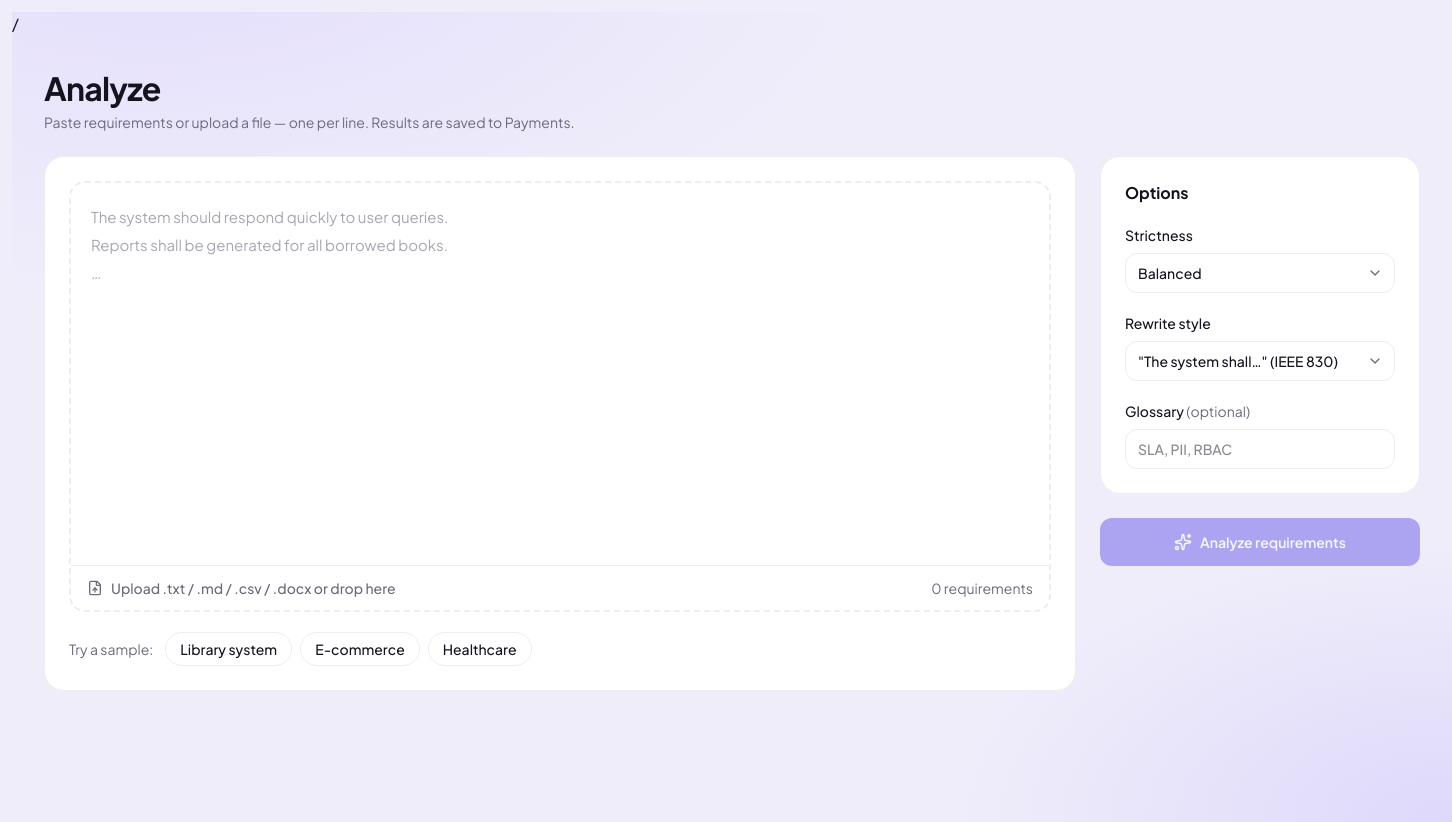
Analyze page › shows the server error message when analysis fails
Step 1. Click the button "E-commerce" → (360, 649), box [300, 632, 420, 666]
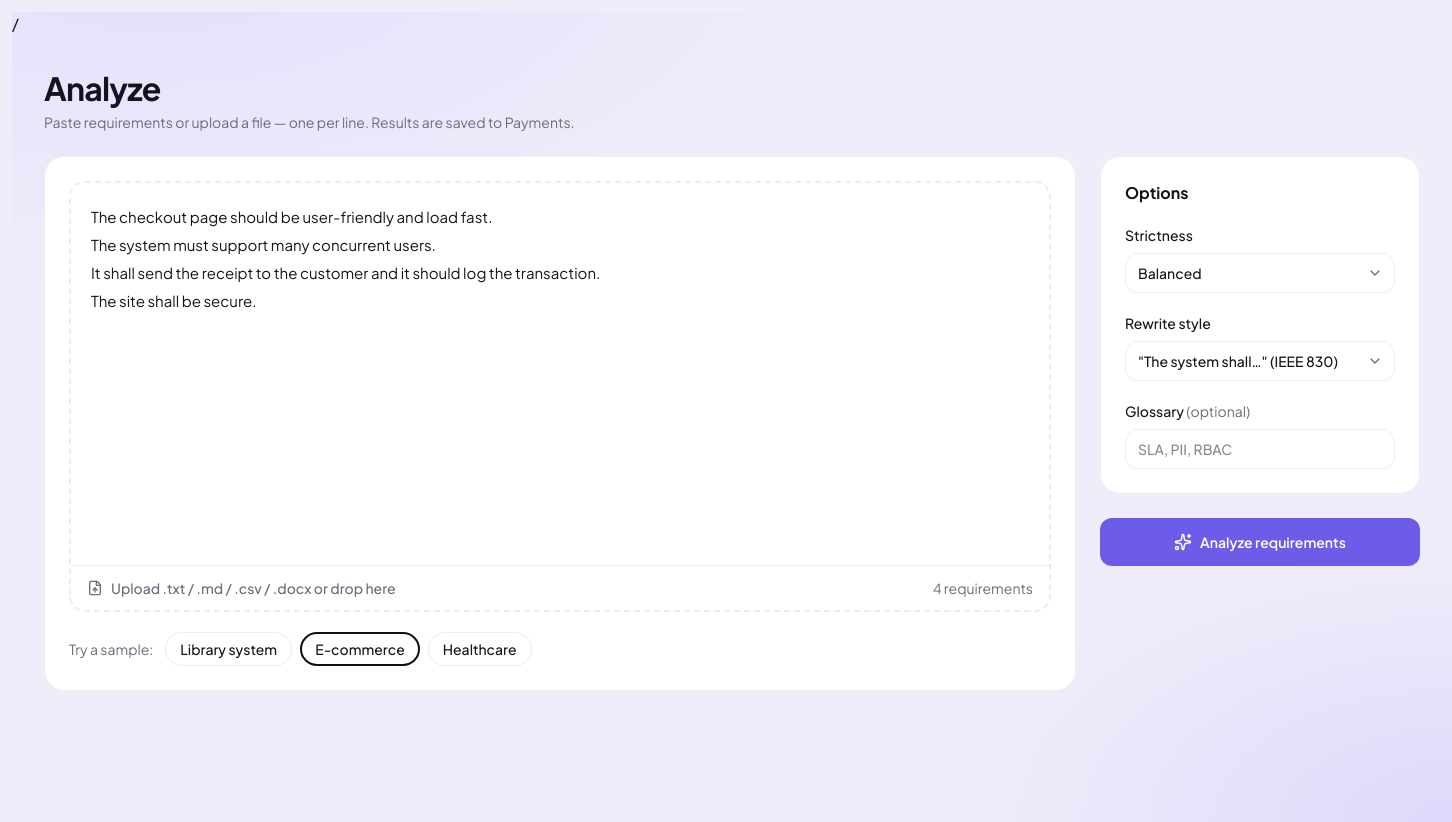
Step 2. Click the button "Analyze requirements" → (1260, 542), box [1100, 518, 1420, 566]
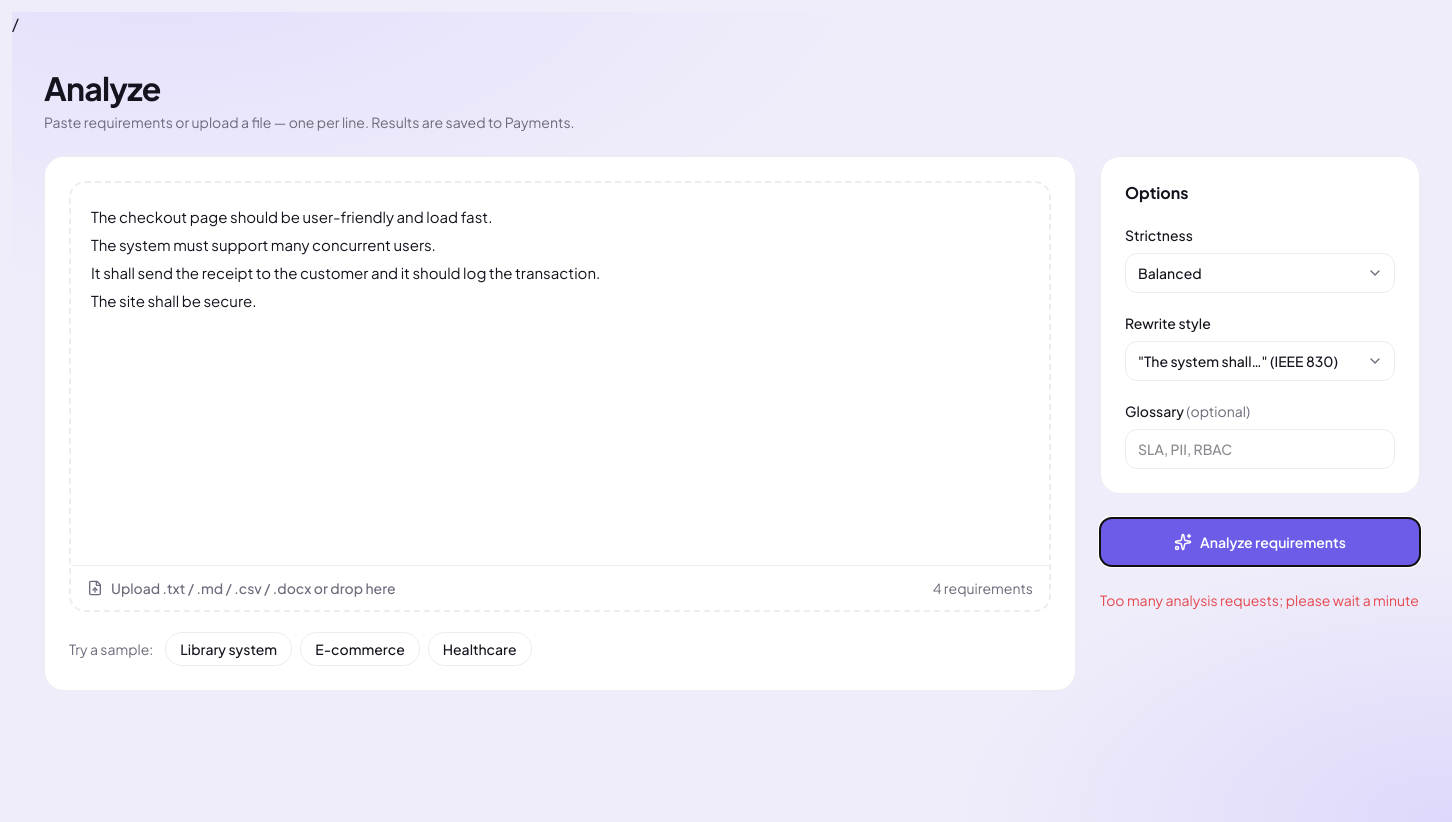
Expected: the message shows "Too many analysis requests", [1100, 591, 1419, 609]
